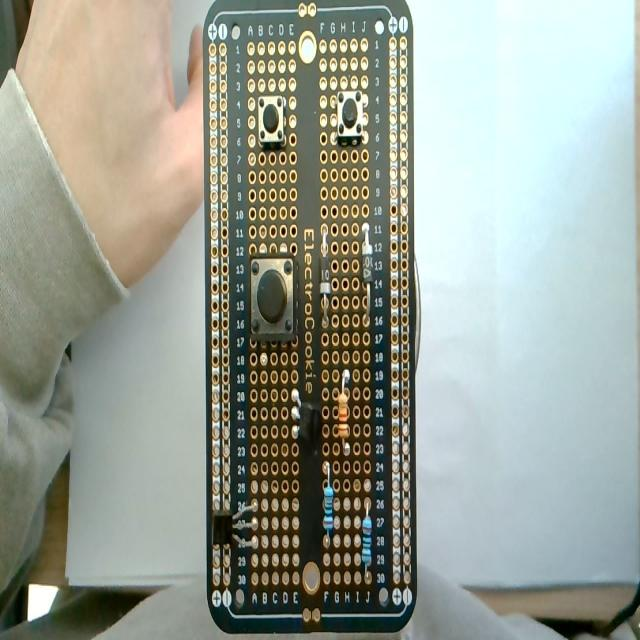diode: (358, 230, 378, 324), (314, 240, 336, 324)
resistor: (338, 368, 352, 466), (361, 500, 376, 588), (321, 461, 335, 546)
switch: (249, 254, 298, 342), (332, 87, 366, 145), (258, 90, 288, 148)
transistor: (210, 498, 262, 564)
